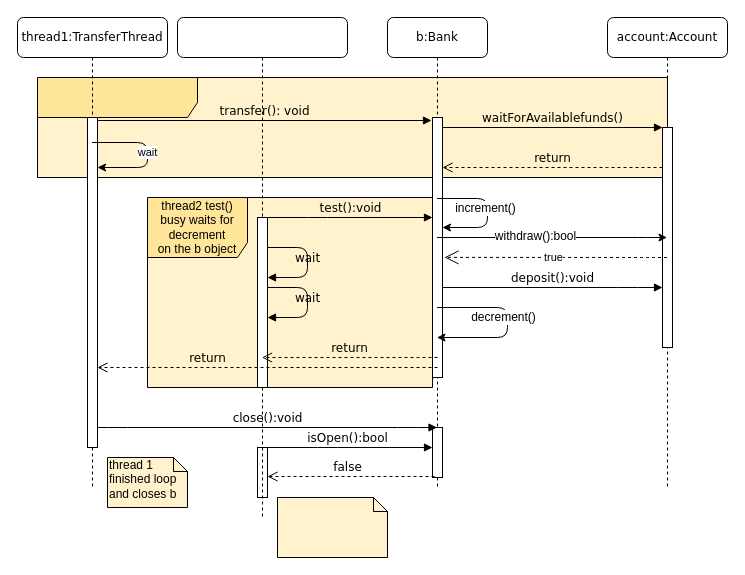
Image size: 745x575. Some labels were removed from this diagram. Each missing label, with the box of its shape:
thread1 waits on a account object for amount to be larger than balance: (36, 76, 668, 178)
thread2 finds the bank is closed and breaks it's loop to finish: (276, 496, 388, 558)
thread2:TransferThread: (176, 16, 348, 518)
